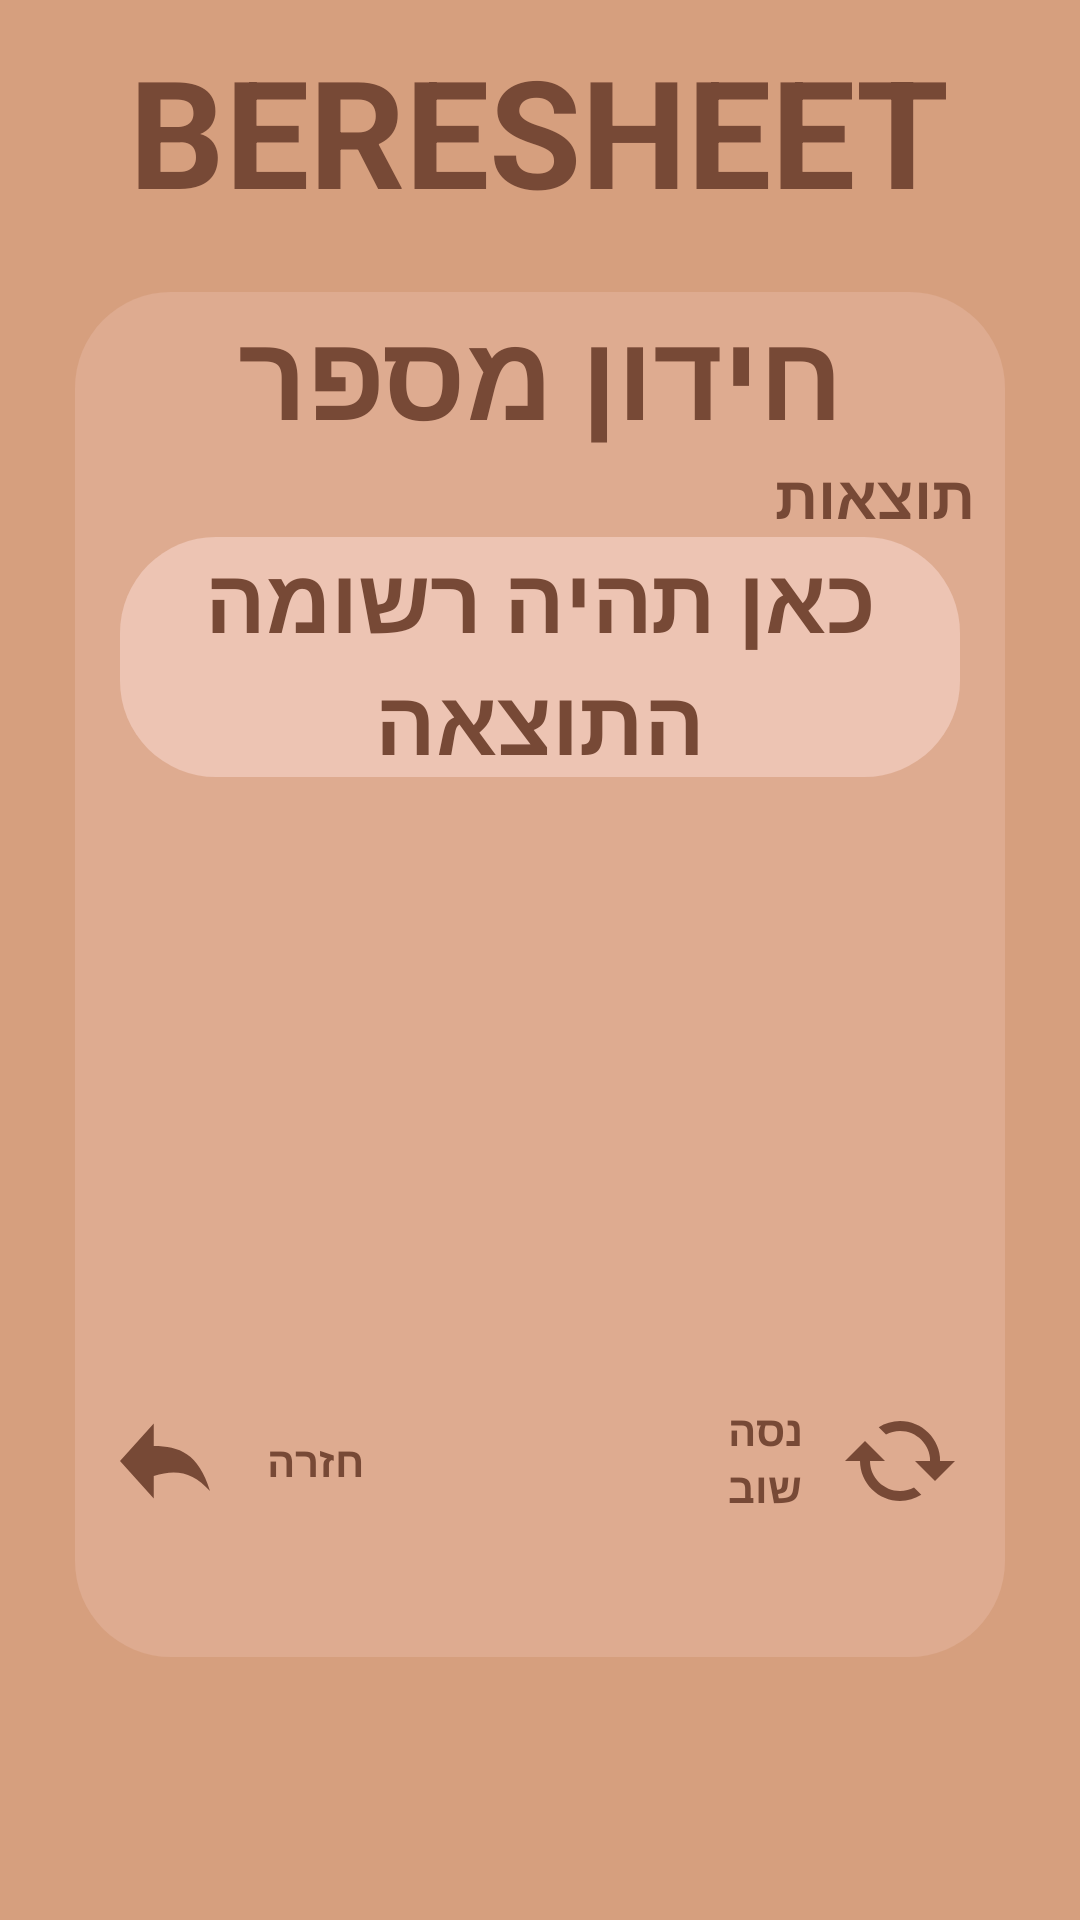

Icons on this 1080px x 1920px Android screen, each with the point to tap as [x,y]:
again: [900,1461]
